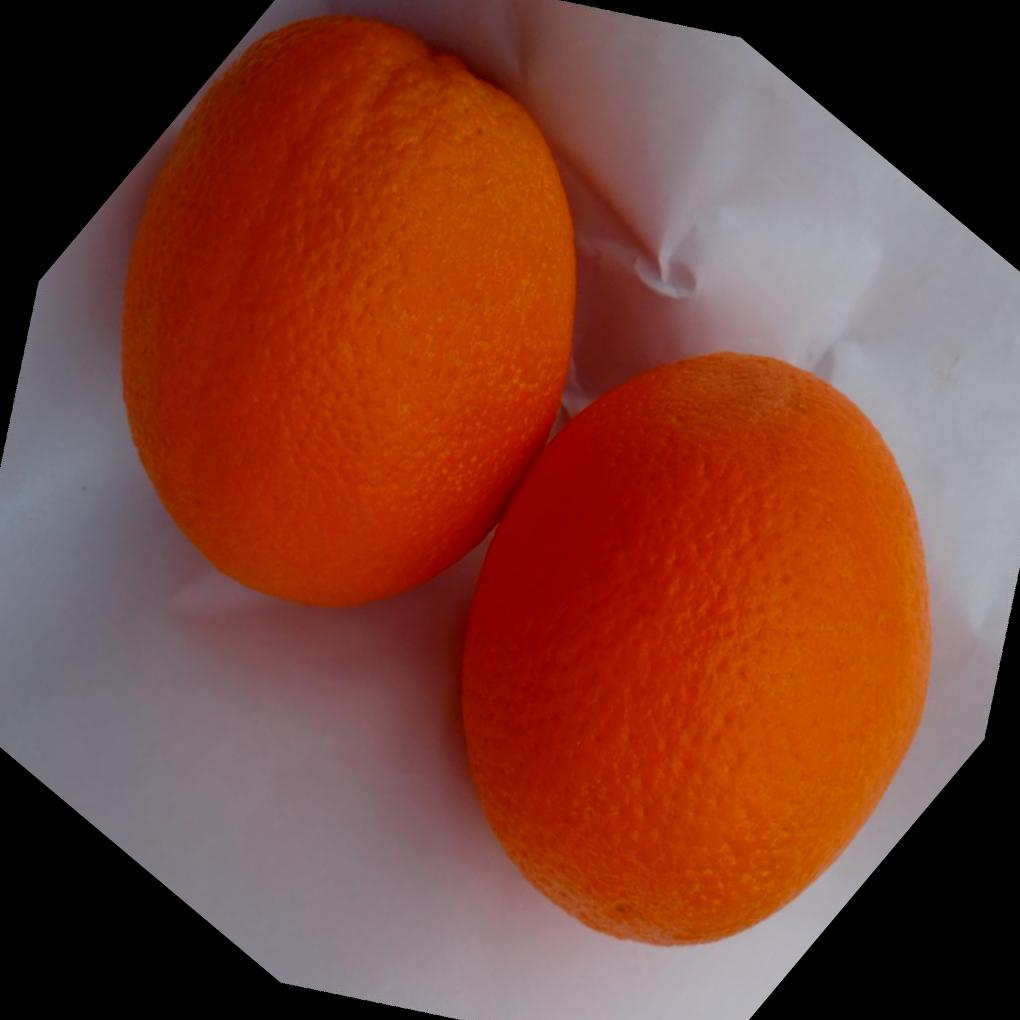FreshGuava: (115, 12, 932, 947)
